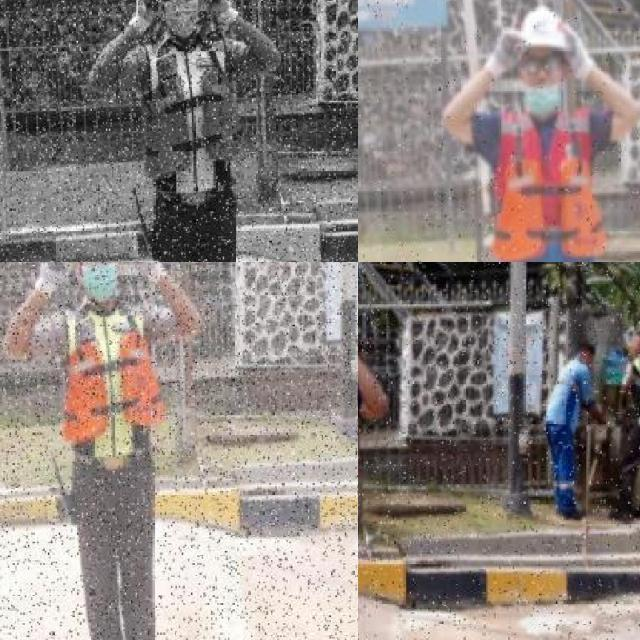apron: (484, 26, 527, 79), (564, 22, 592, 82), (30, 262, 72, 300), (128, 0, 162, 36), (126, 262, 169, 288), (201, 0, 239, 28)
